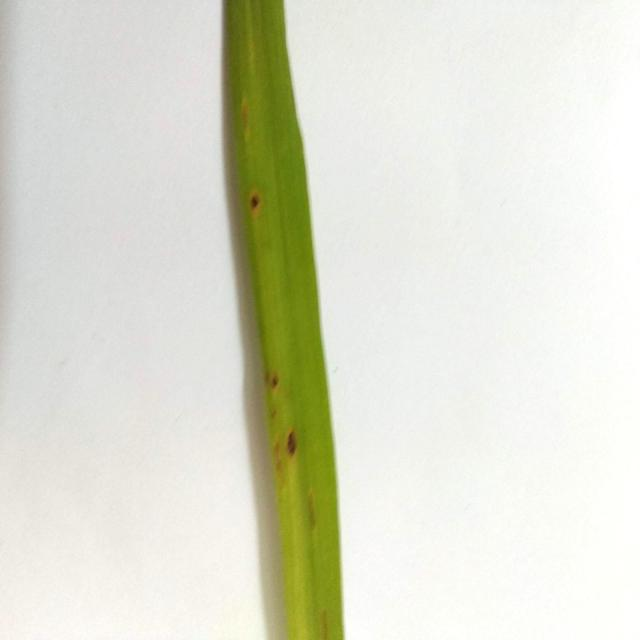Brown spot: (215, 1, 349, 640)
